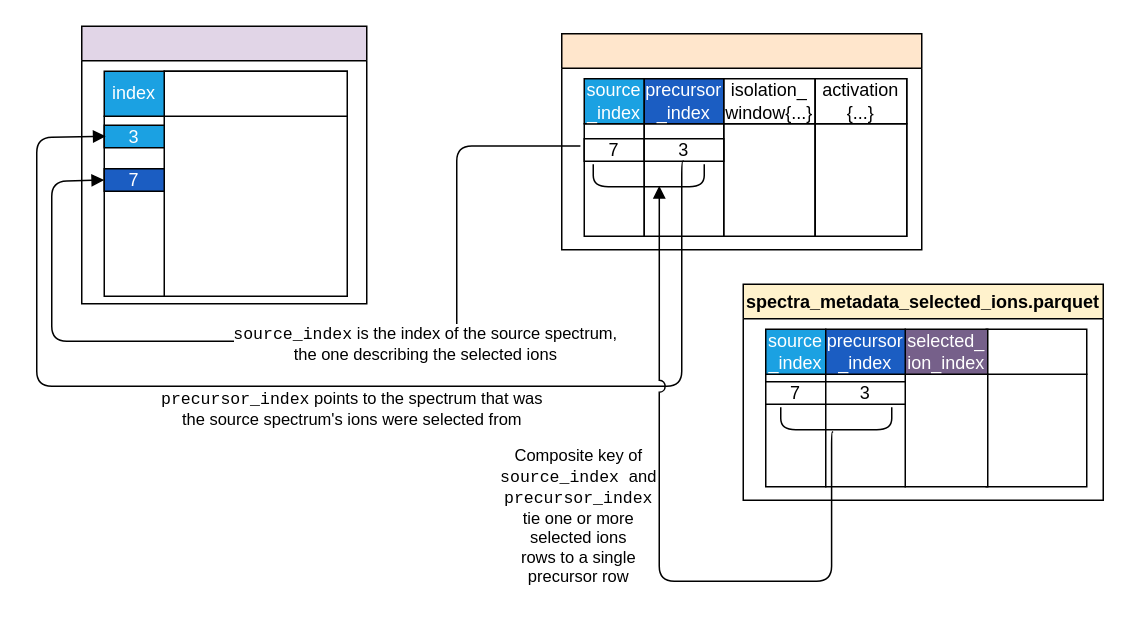
The diagram is 1130 pixels wide and 620 high, and some of its shapes have lost their labels. The box of each missing label's shape, as (x1, y1, x2, y2) in pixels:
selected_ ion_mz: (985, 328, 1087, 374)
spectra_metadata.parquet: (80, 25, 367, 304)
spectra_metadata_precursor.parquet: (560, 32, 922, 250)
